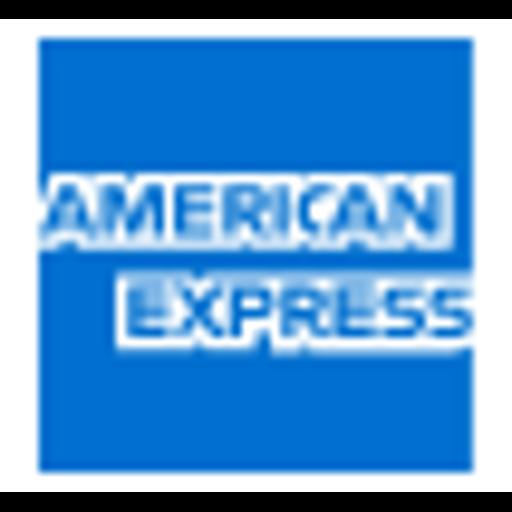American Express: (0, 19, 512, 492)
